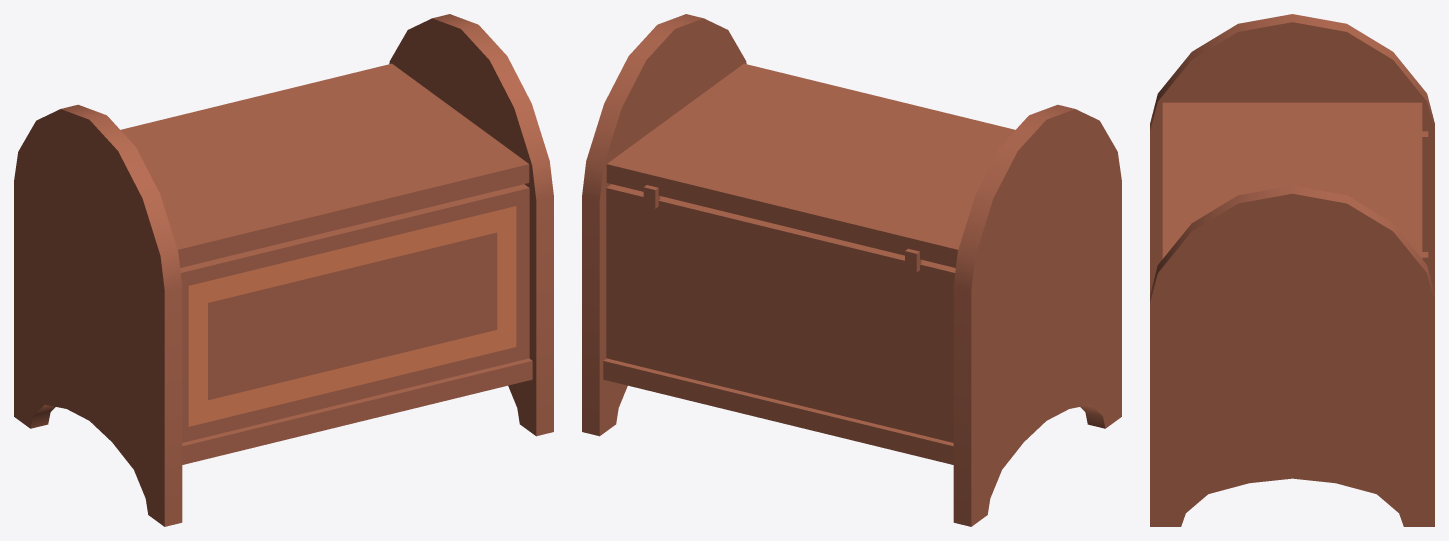
File: ToyBox_01.fbx
3 renders of one model, left to right at view 1: azimuth 30°, elevation 25°; view 2: azimuth 150°, elevation 25°; view 3: azimuth 270°, elevation 25°, orthographic. The views are drawn at different scales.
Parts seen in each view (by area): view 1: ToyBox_01, ToyBox_01_Lid; view 2: ToyBox_01, ToyBox_01_Lid; view 3: ToyBox_01, ToyBox_01_Lid.
Boxes of the visible parts, <box> form: ToyBox_01: <box>14,14,553,526</box>; ToyBox_01_Lid: <box>121,63,529,267</box>; ToyBox_01: <box>582,14,1121,526</box>; ToyBox_01_Lid: <box>606,63,1014,267</box>; ToyBox_01: <box>1150,14,1434,526</box>; ToyBox_01_Lid: <box>1162,102,1422,258</box>.
Size of the model in its own units: 0.9025 by 0.7804 by 0.6043.
